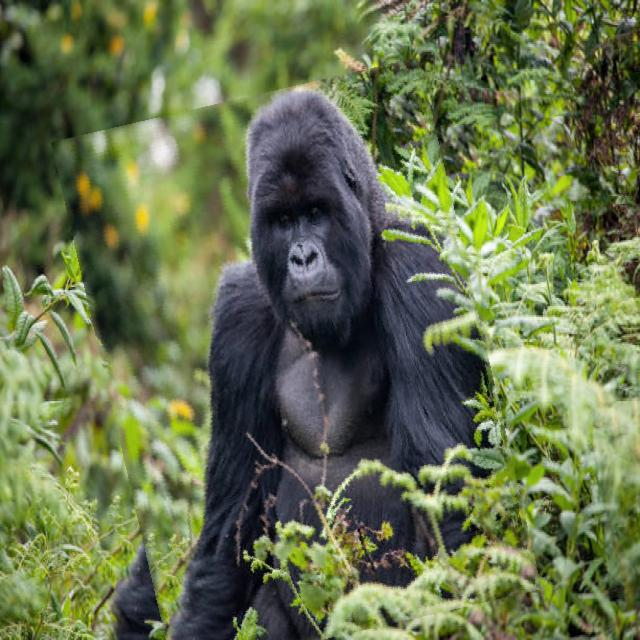gorila: (79, 74, 514, 640)
